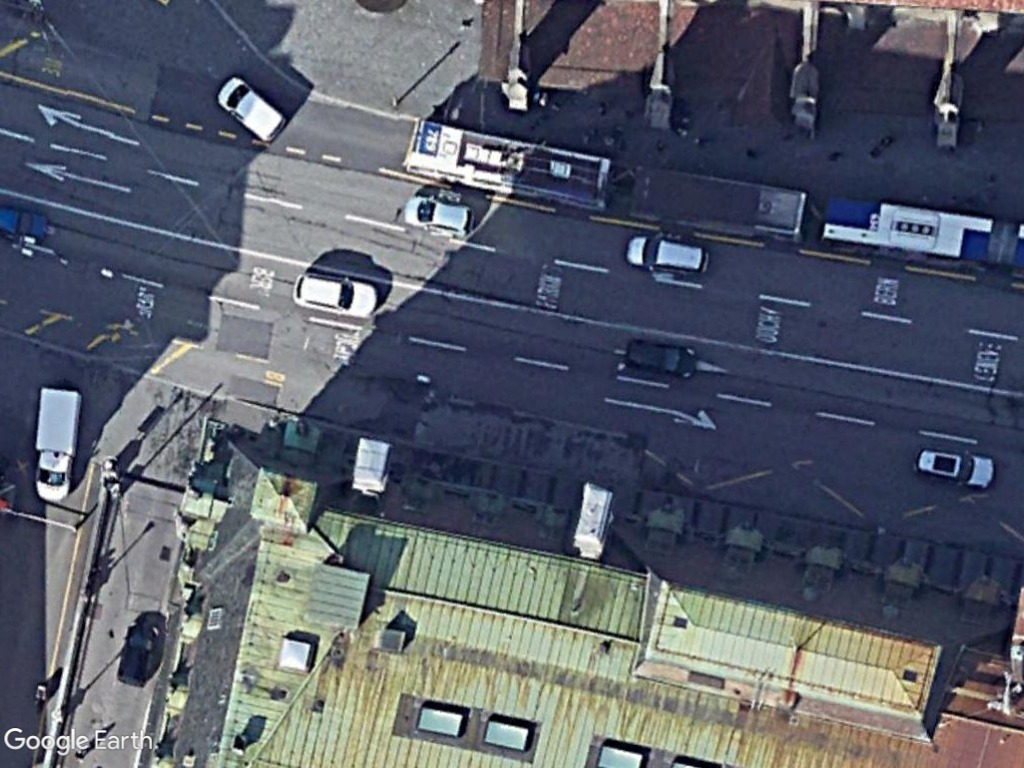bus: (402, 115, 618, 219), (818, 194, 1003, 269)
car: (287, 271, 383, 321), (911, 446, 998, 493), (625, 233, 713, 278), (401, 195, 479, 240)
truck: (31, 382, 84, 505)
van: (213, 72, 289, 143)
